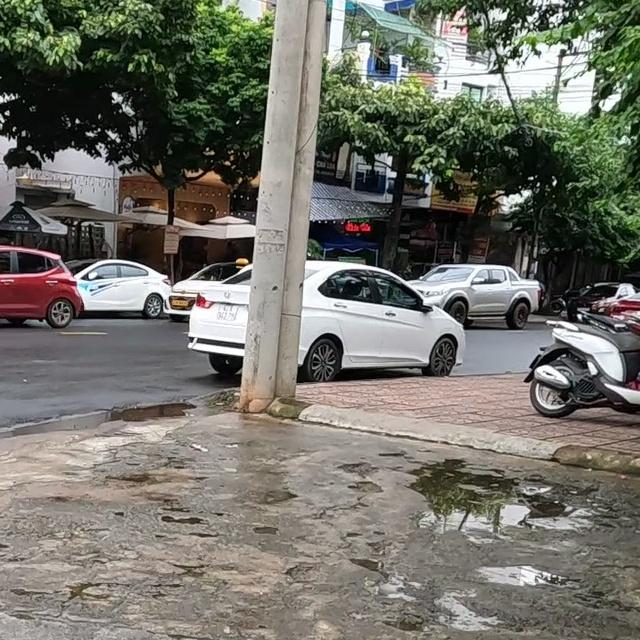license-plate: (216, 304, 240, 322)
